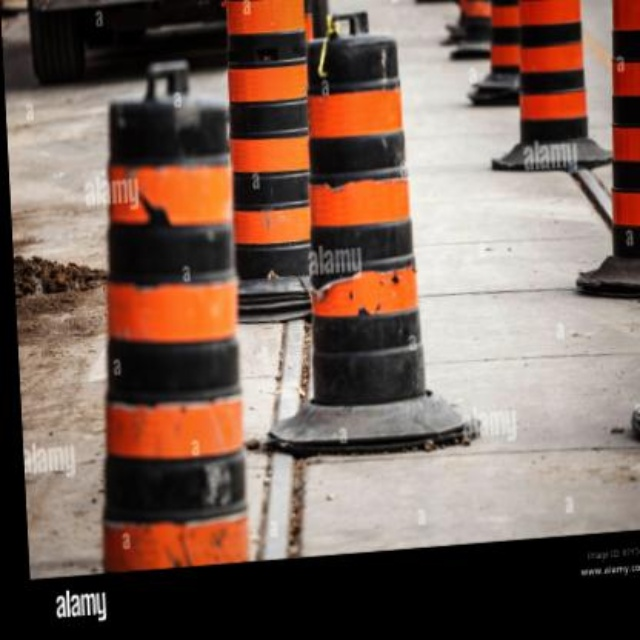obstacle: (83, 79, 248, 577), (296, 24, 427, 415), (216, 8, 309, 332)
